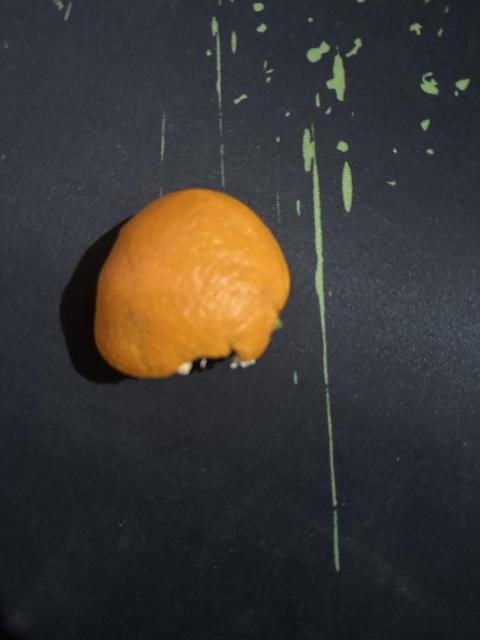Organik: (90, 184, 292, 387)
